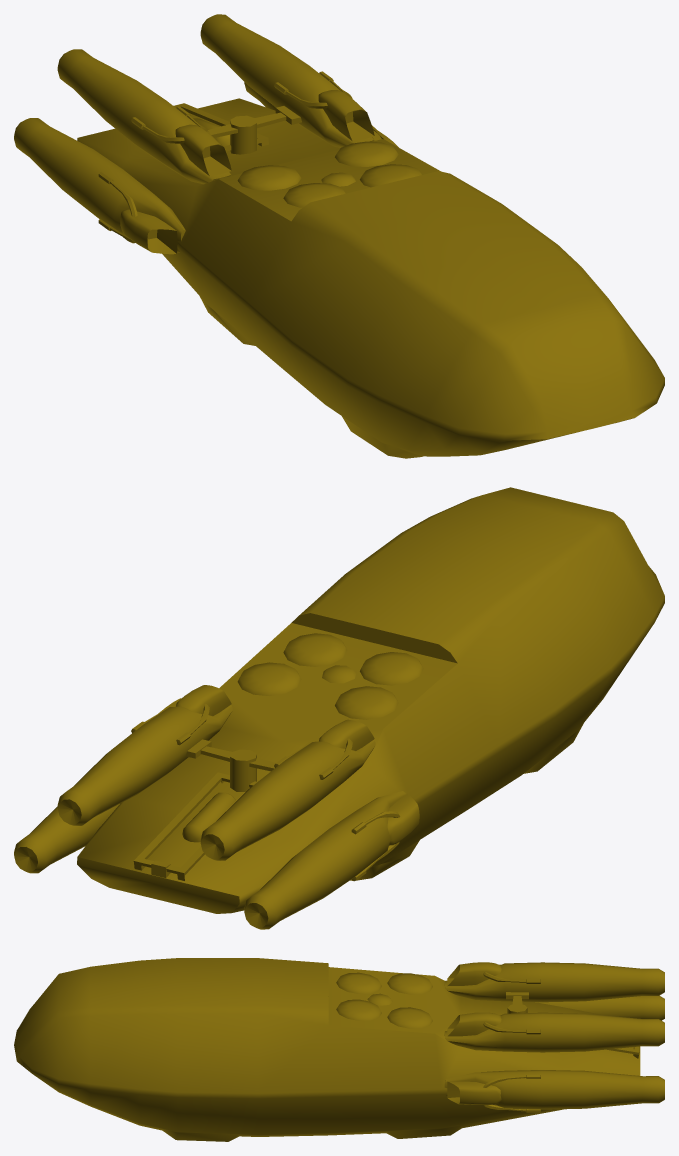
The model's file is spaceship2.obj.
3 renders of one model, top to bottom at view 1: azimuth 30°, elevation 25°; view 2: azimuth 150°, elevation 25°; view 3: azimuth 270°, elevation 25°, orthographic. The views are drawn at different scales.
Parts seen in each view (by area): view 1: colshtl2co_1_001; view 2: colshtl2co_1_001; view 3: colshtl2co_1_001.
Part boxes in pixels (x1,y1,x2,y2): colshtl2co_1_001: [14, 14, 664, 458]; colshtl2co_1_001: [14, 487, 664, 929]; colshtl2co_1_001: [14, 958, 664, 1141].
Size of the model in its own units: 347 by 223 by 977.
